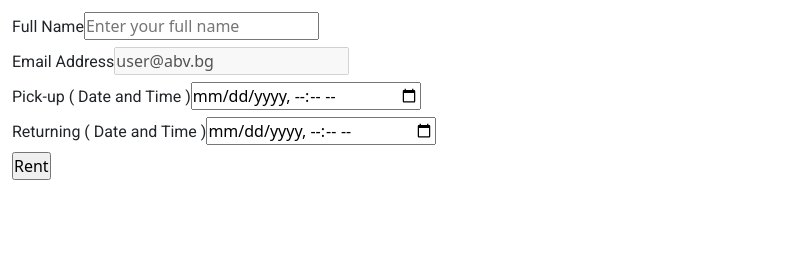
Scenario: RentForm Component › shows error messages for empty data
Step 1. Click the button with class "rent-btn" → [31, 166], box [12, 152, 51, 180]
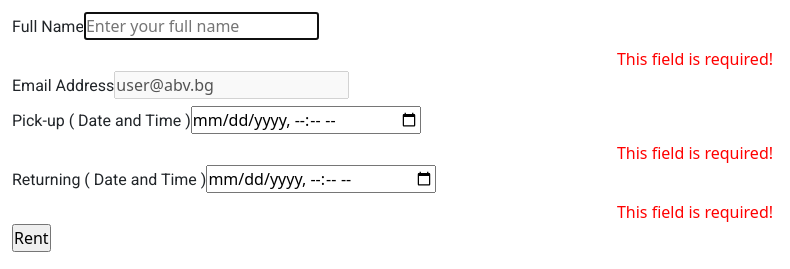
Now the text "This field is required!" is shown 3 times, box [617, 48, 773, 70]; [617, 142, 773, 164]; [617, 201, 773, 223]
